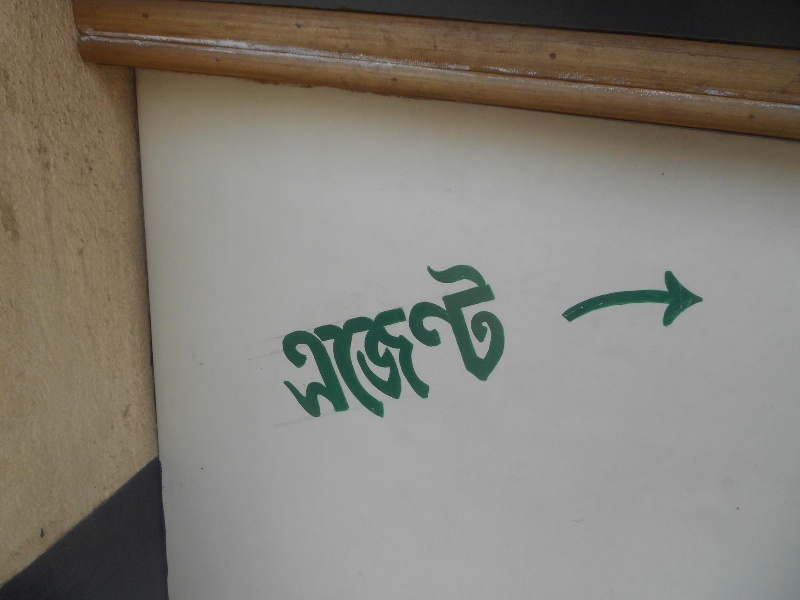text: (273, 245, 288, 438), (289, 245, 304, 438), (305, 245, 320, 438), (321, 245, 336, 438), (337, 245, 352, 438), (353, 245, 368, 438), (369, 245, 384, 438), (385, 245, 400, 438), (401, 245, 416, 438), (417, 245, 432, 438), (433, 245, 448, 438), (449, 245, 464, 438), (465, 245, 480, 438), (481, 245, 496, 438), (497, 245, 512, 438), (513, 245, 528, 438), (529, 245, 544, 438), (545, 245, 549, 438), (269, 245, 272, 438)
